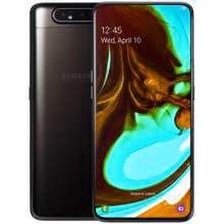phone: (27, 0, 136, 224), (89, 0, 196, 224)
